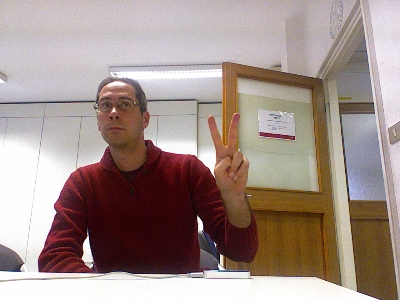剪刀: (207, 112, 249, 196)
